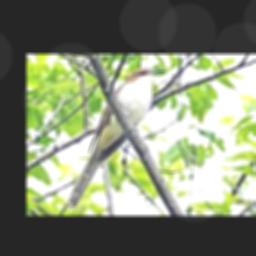Cuckoo: (67, 68, 167, 211)
